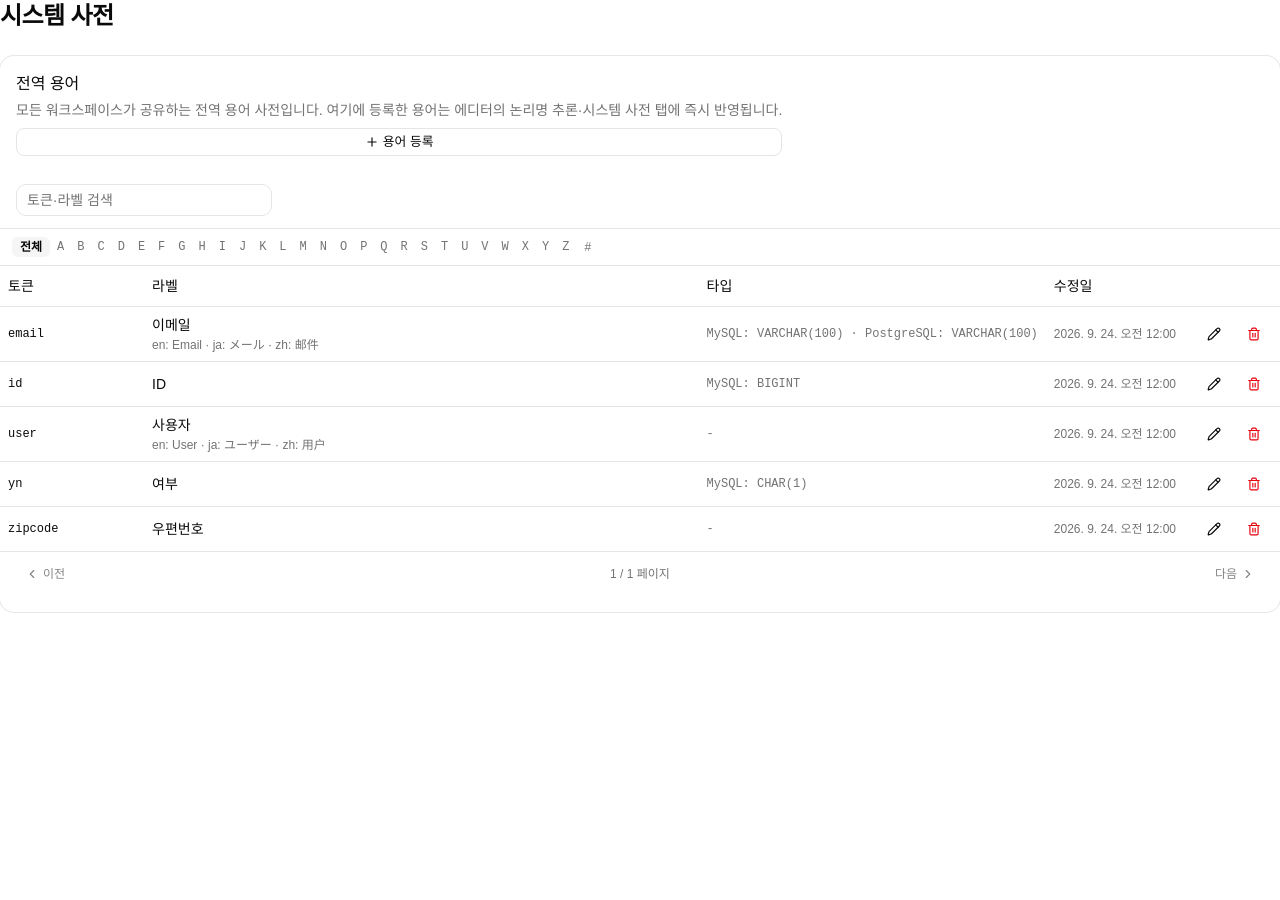
Test case: 시스템 사전 관리 화면 › 편집 — 기존 라벨 맵·DBMS별 타입이 프리필되고, 같은 토큰 재등록으로 덮어쓴다
This screenshot has width=1280, height=900.
Step 1. Click the button named "수정 — email" → (1214, 334), box [1196, 320, 1232, 348]
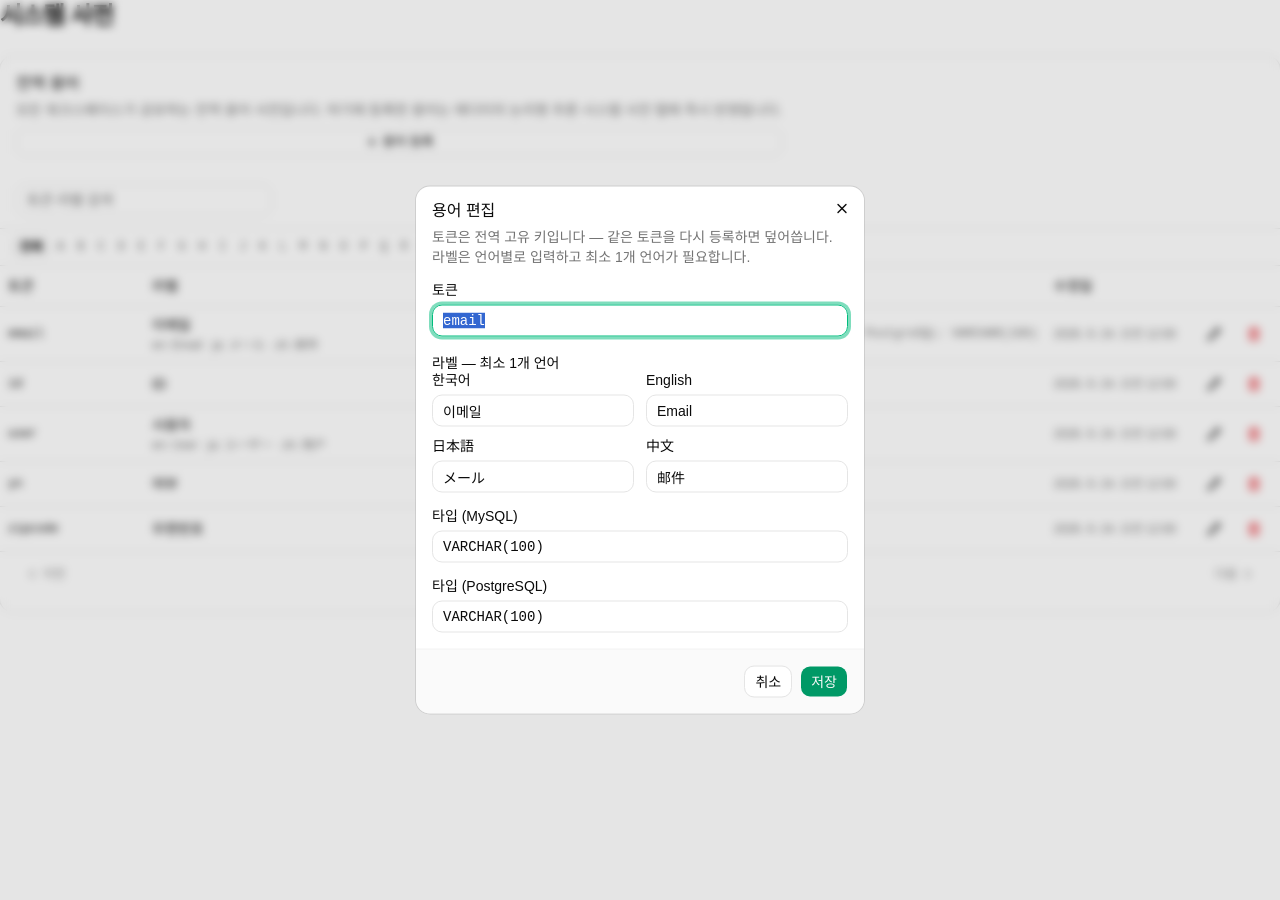
expect the field labelled "토큰" holds "email": met, box [432, 304, 848, 336]
expect the field labelled "한국어" holds "이메일": met
expect the field labelled "English" holds "Email": met, box [646, 394, 848, 426]
Step 2. Replace the text in the field labelled "한국어" with "이메일 주소" → (533, 410), box [432, 394, 634, 426]
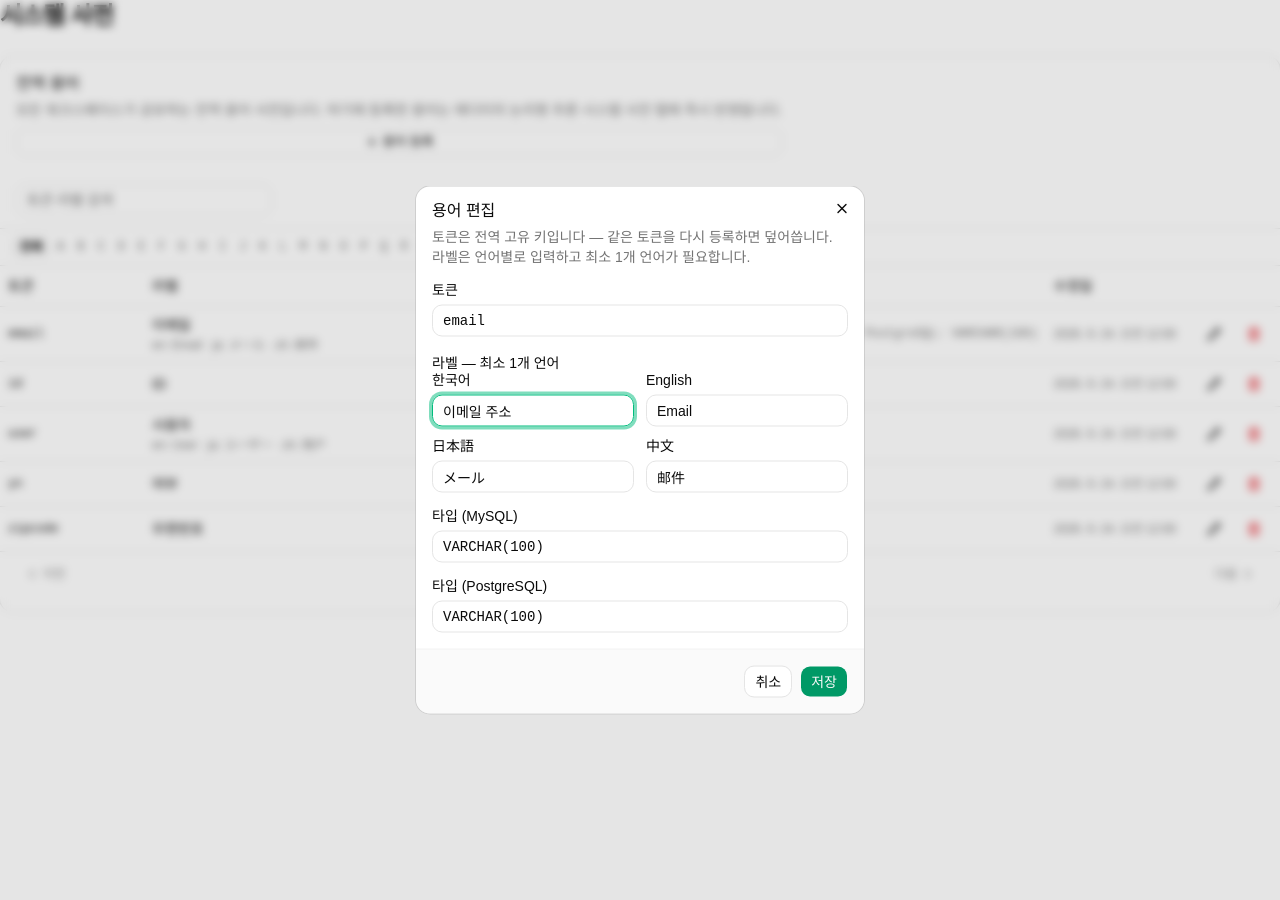
Step 3. Click the button "저장" → (824, 682), box [800, 666, 848, 698]
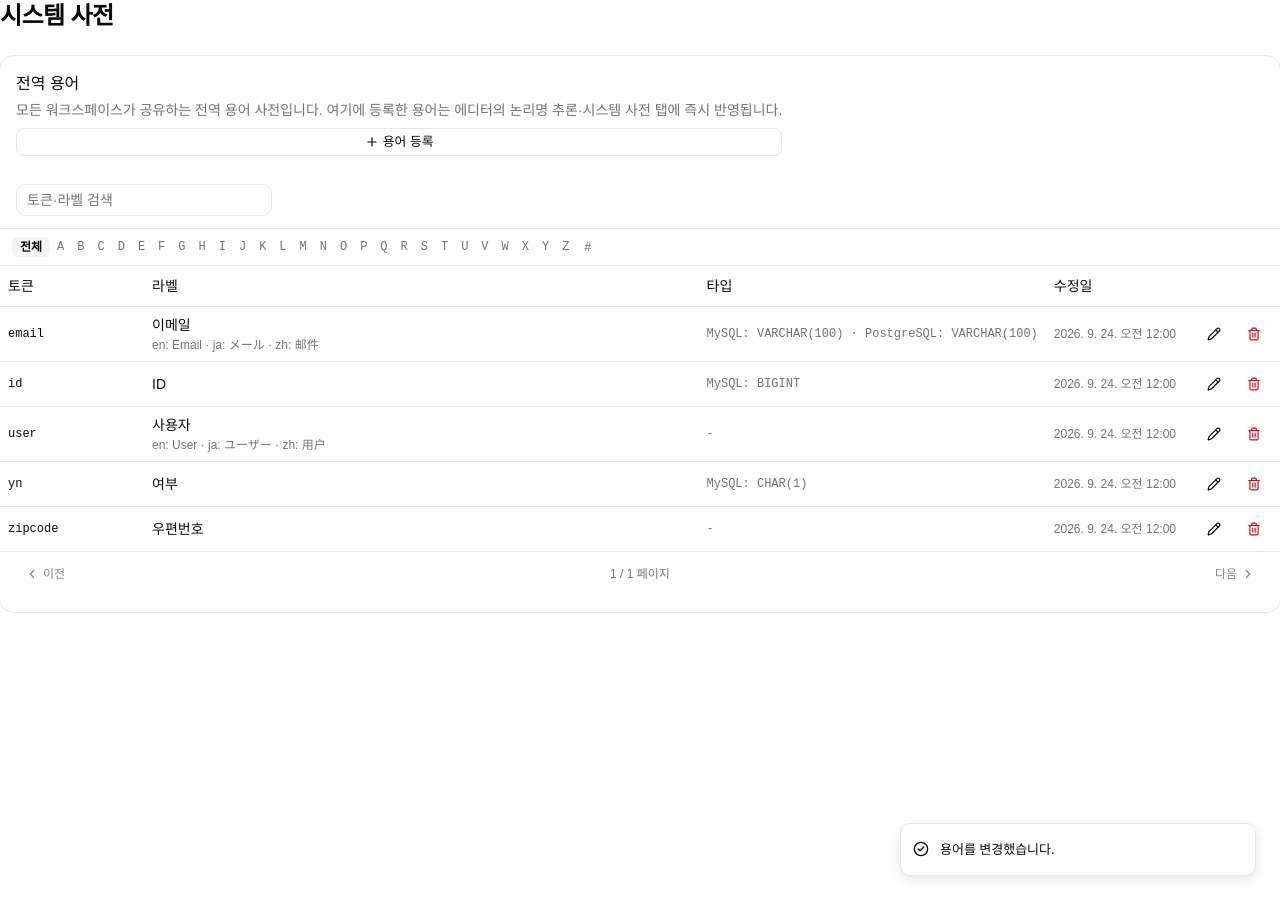
expect the text "용어를 변경했습니다." is shown: met, box [940, 840, 1054, 859]
